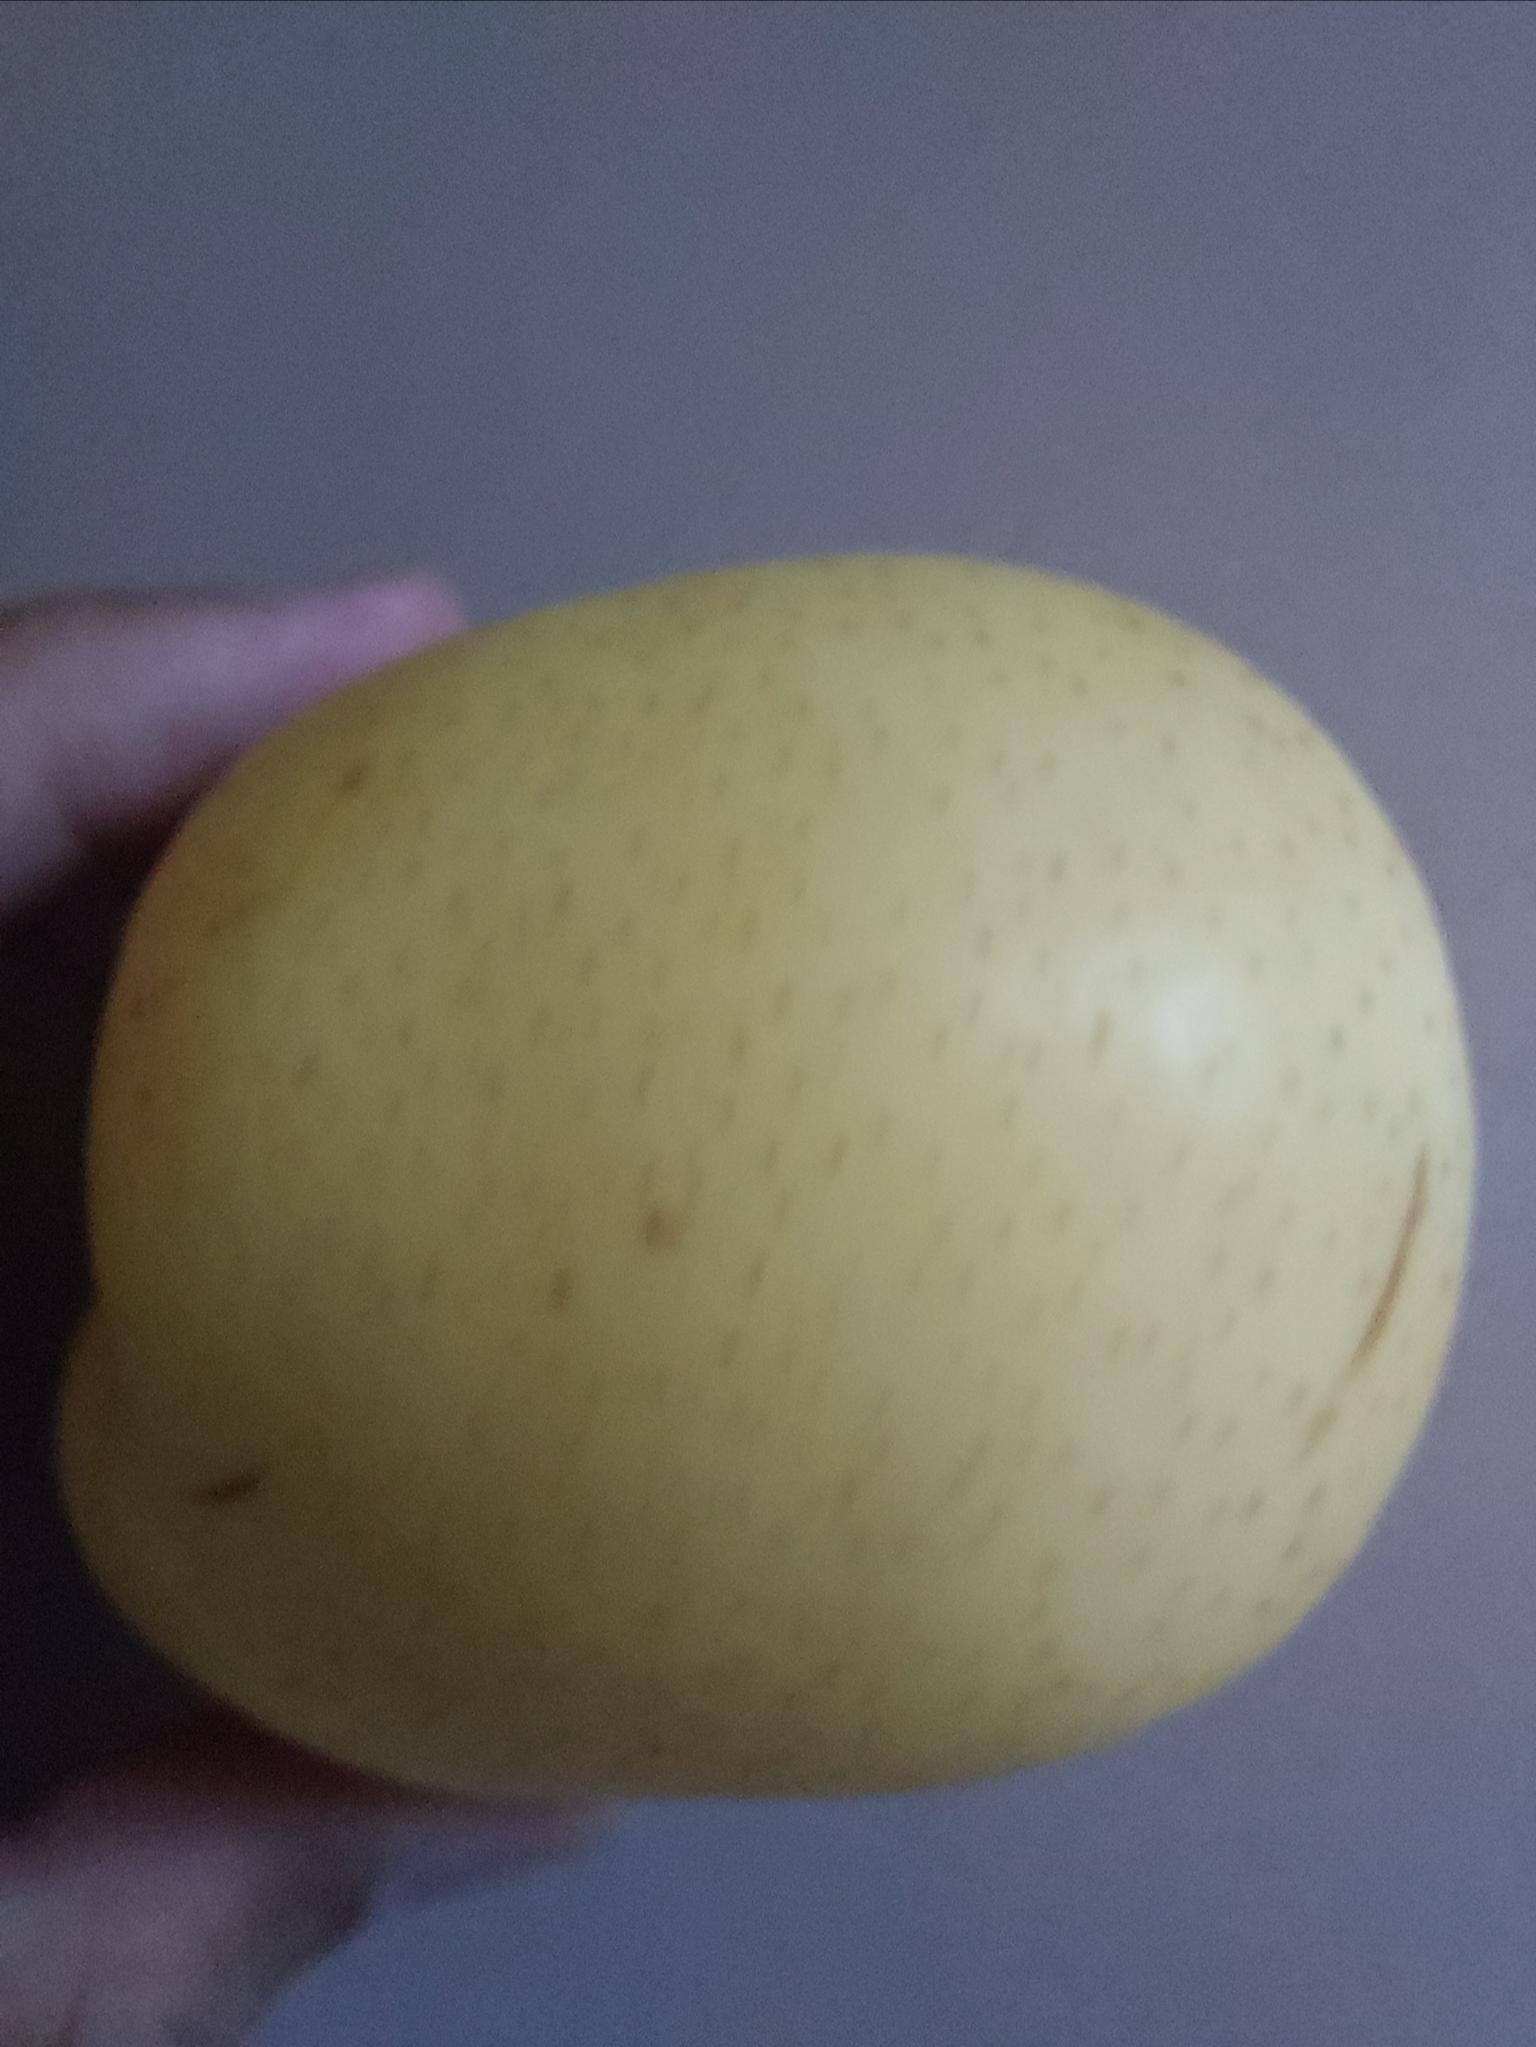Good Pear: (291, 713, 1469, 1760)
